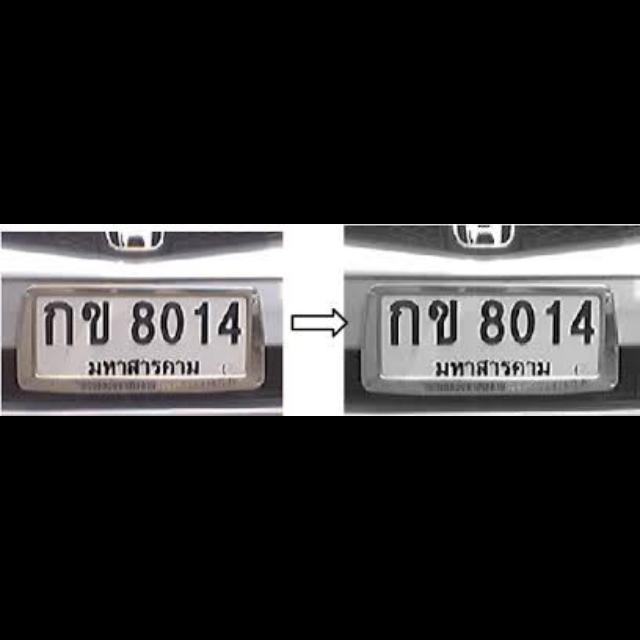licenseplate: (18, 284, 270, 396), (362, 286, 622, 392)
